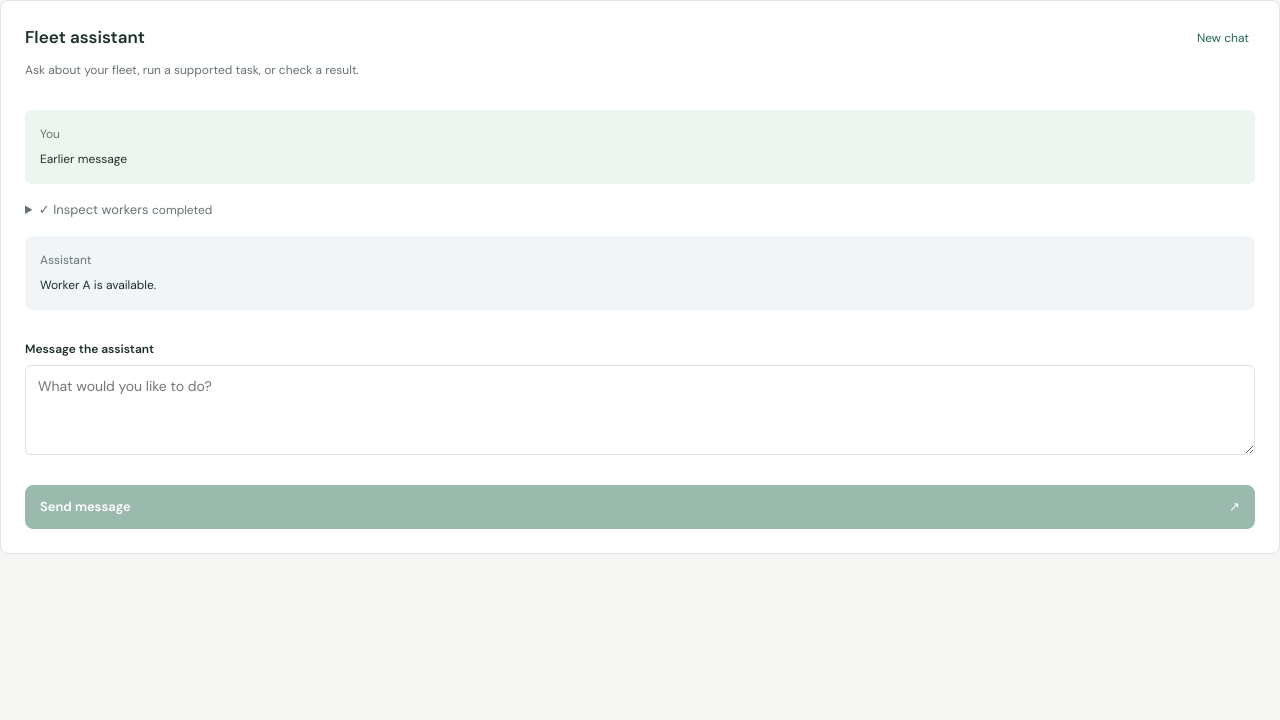
Test: fleet assistant › restores saved history and starts a fresh conversation on request
This screenshot has width=1280, height=720.
Expected: the text "Earlier message" is shown, [40,151,127,167]
Click the button "New chat" at (1223, 38), box [1191,28,1255,48]
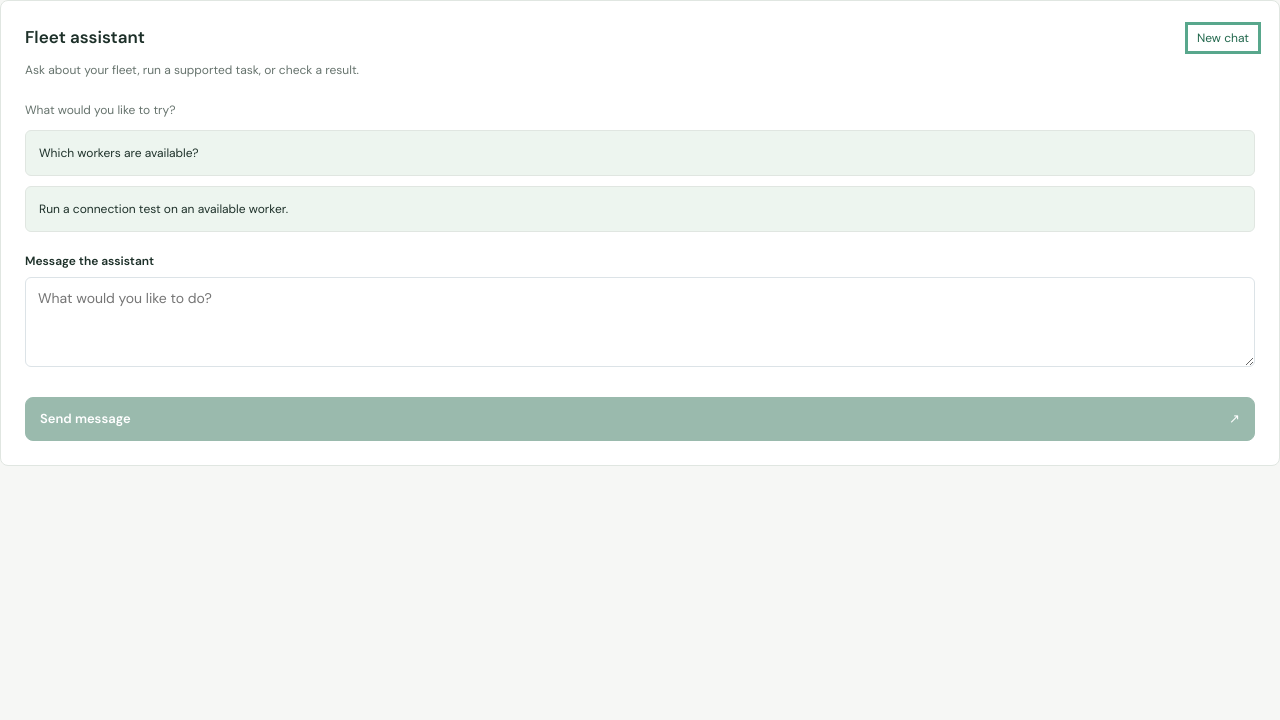
Expected: the text "Earlier message" is gone
